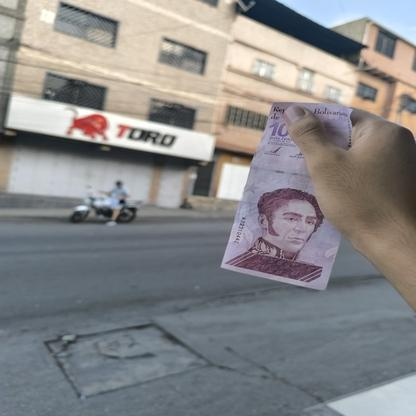one_hundred-front-vef: (219, 101, 354, 291)
